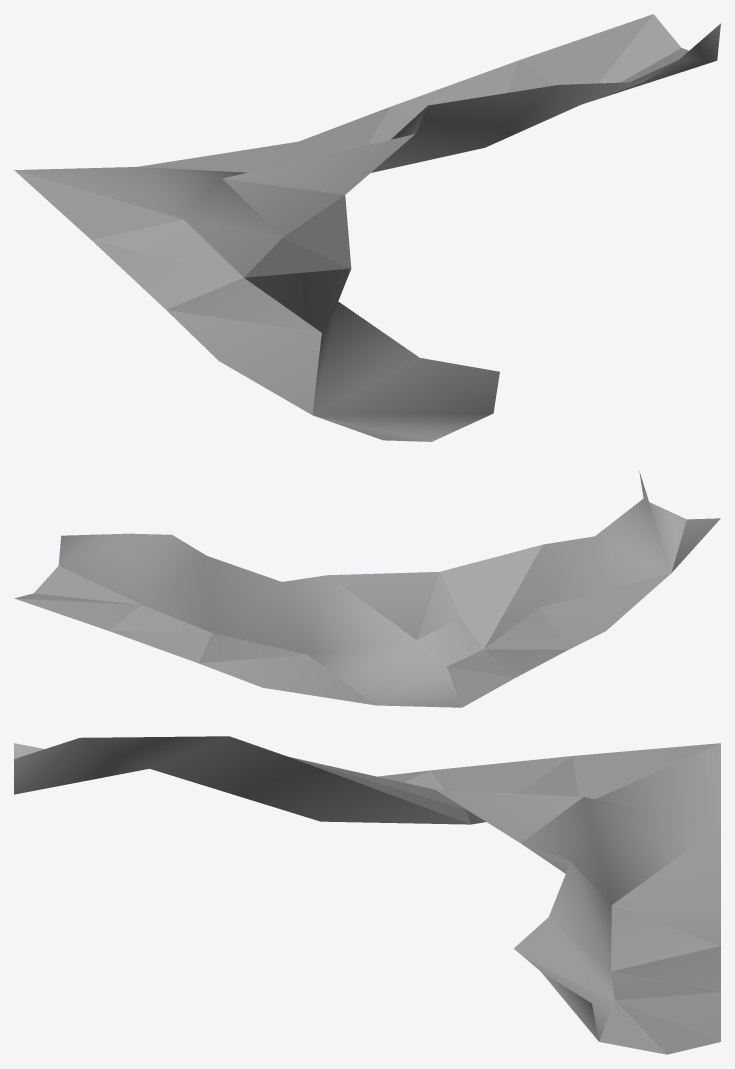
File: CornerRoofHanging1.fbx
3 renders of one model, top to bottom at view 1: azimuth 30°, elevation 25°; view 2: azimuth 150°, elevation 25°; view 3: azimuth 270°, elevation 25°, orthographic. The views are drawn at different scales.
Parts seen in each view (by area): view 1: CornerRoofHanging1; view 2: CornerRoofHanging1; view 3: CornerRoofHanging1.
Part boxes in pixels (left/top/right/bottom): CornerRoofHanging1: left=14, top=14, right=720, bottom=441; CornerRoofHanging1: left=14, top=471, right=720, bottom=707; CornerRoofHanging1: left=14, top=736, right=720, bottom=1054.
Bounding box in the file's own units: 500 × 60.59 × 500.
